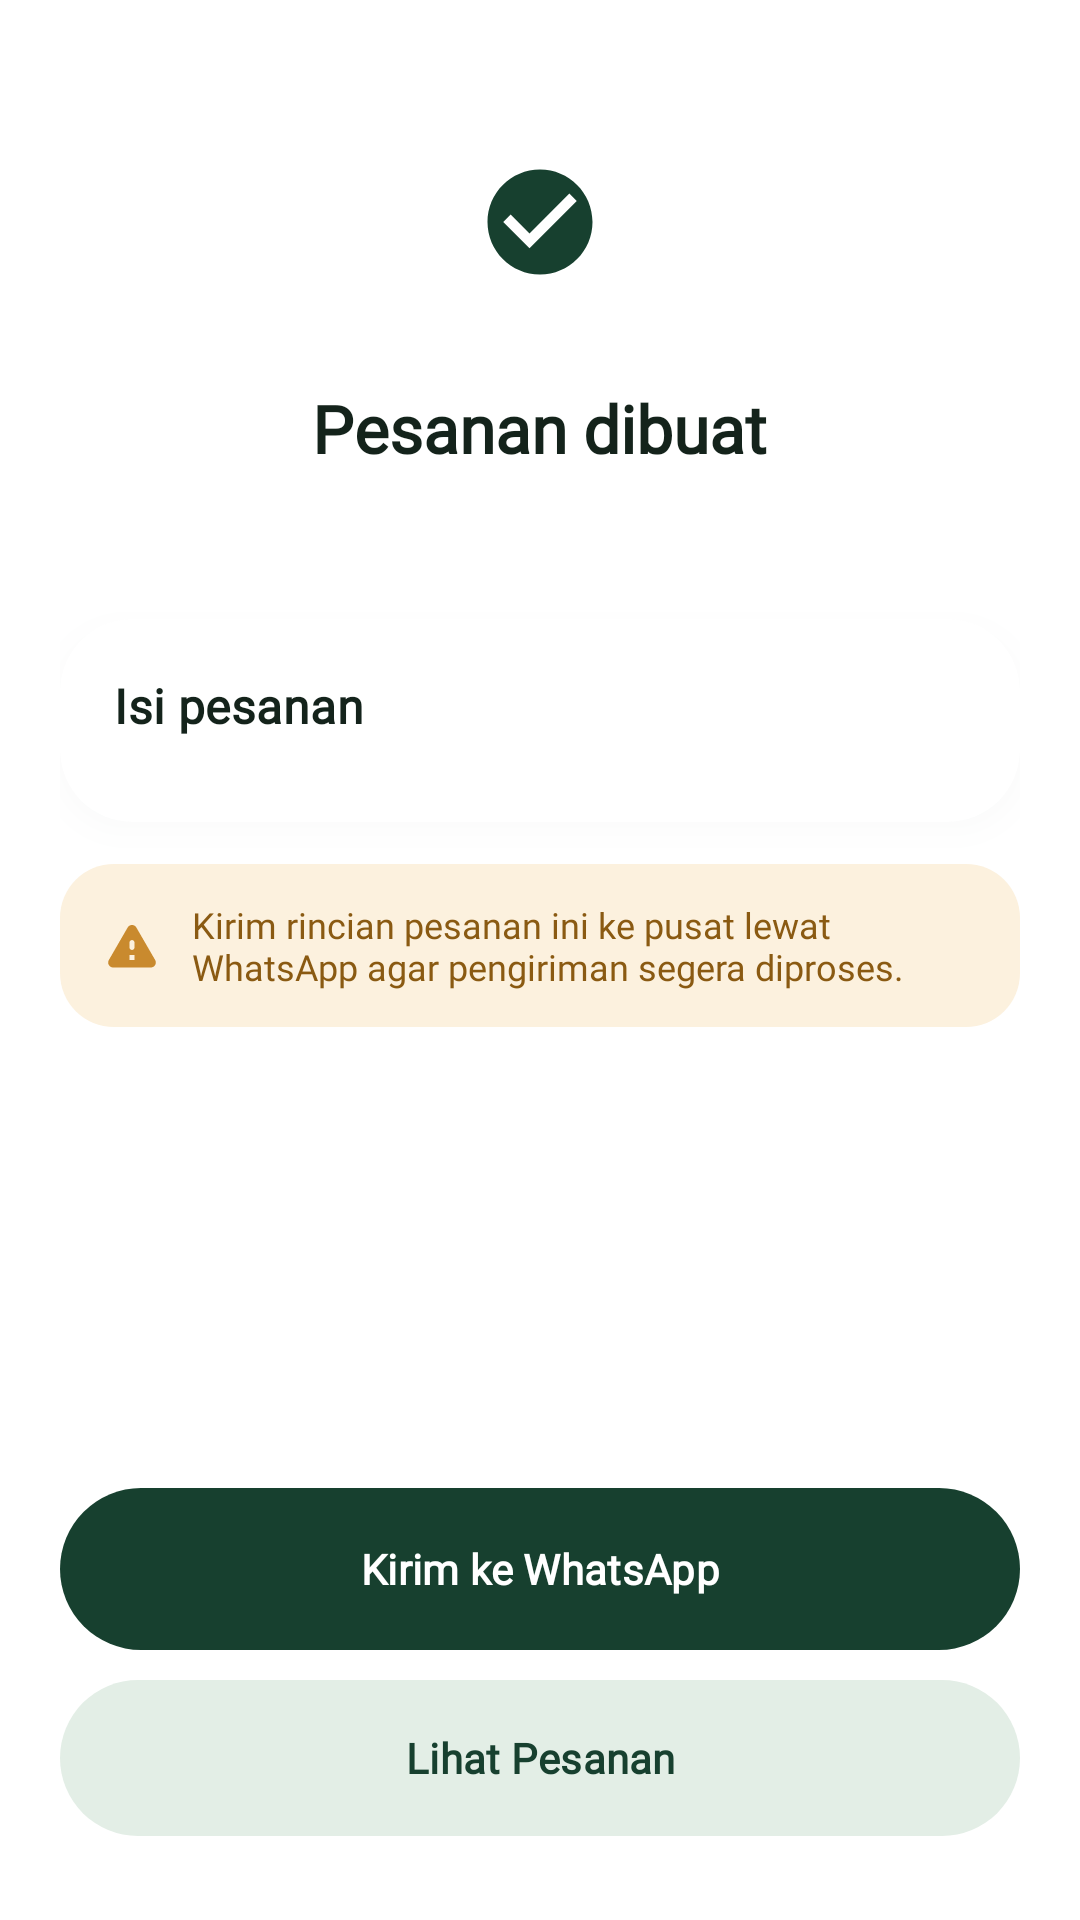

Screen size 1080 x 1920. Icon name, then its box in pixels as (x1, y1, x2, y2):
check circle: (487, 169, 593, 275)
warning: (108, 925, 156, 968)
